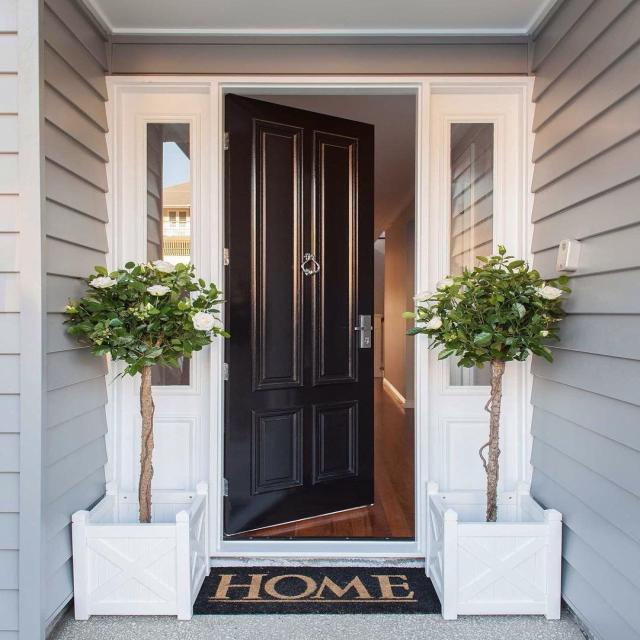open: (220, 94, 418, 547)
